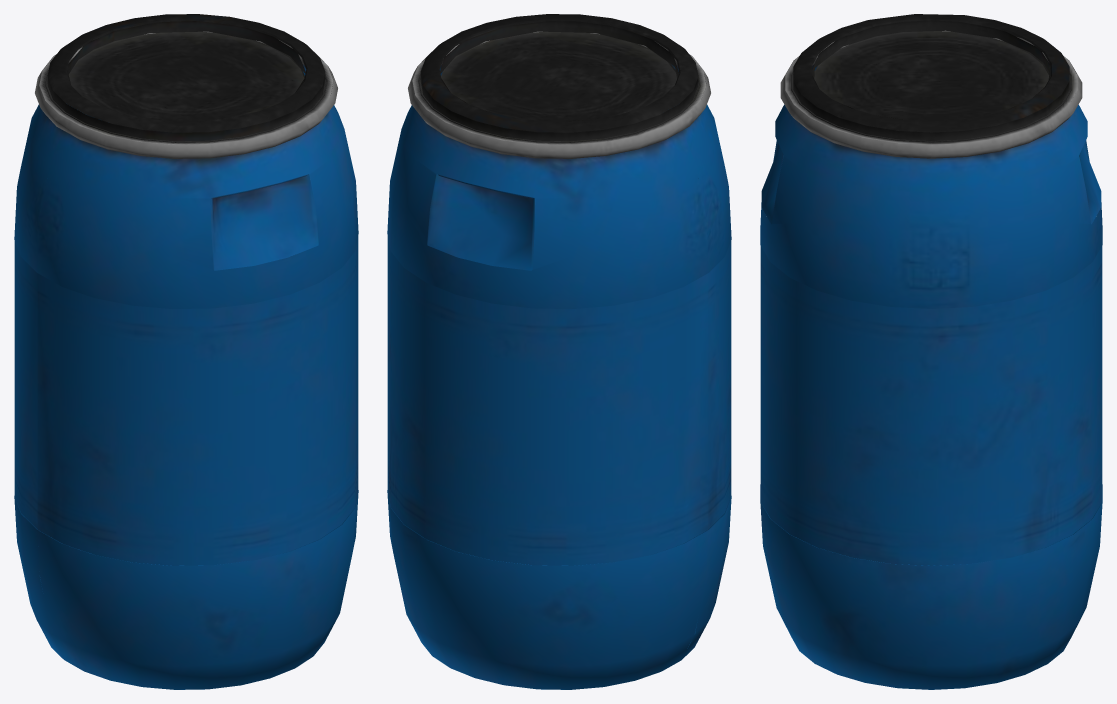
Rendered from barrel_02.glb.
3 views of the same model, side by side, from view 1: azimuth 30°, elevation 25°; view 2: azimuth 150°, elevation 25°; view 3: azimuth 270°, elevation 25° (orthographic).
Visible parts, largest first — view 1: CC0_Barrel_02; view 2: CC0_Barrel_02; view 3: CC0_Barrel_02.
Boxes of the visible parts, box(x1,y1,x2,y2) form: CC0_Barrel_02: box(14, 14, 358, 689); CC0_Barrel_02: box(387, 14, 731, 689); CC0_Barrel_02: box(760, 14, 1102, 689).
Size of the model in its own units: 0.4882 by 0.88 by 0.4846.
Materials: 1 (1 with a texture image).
